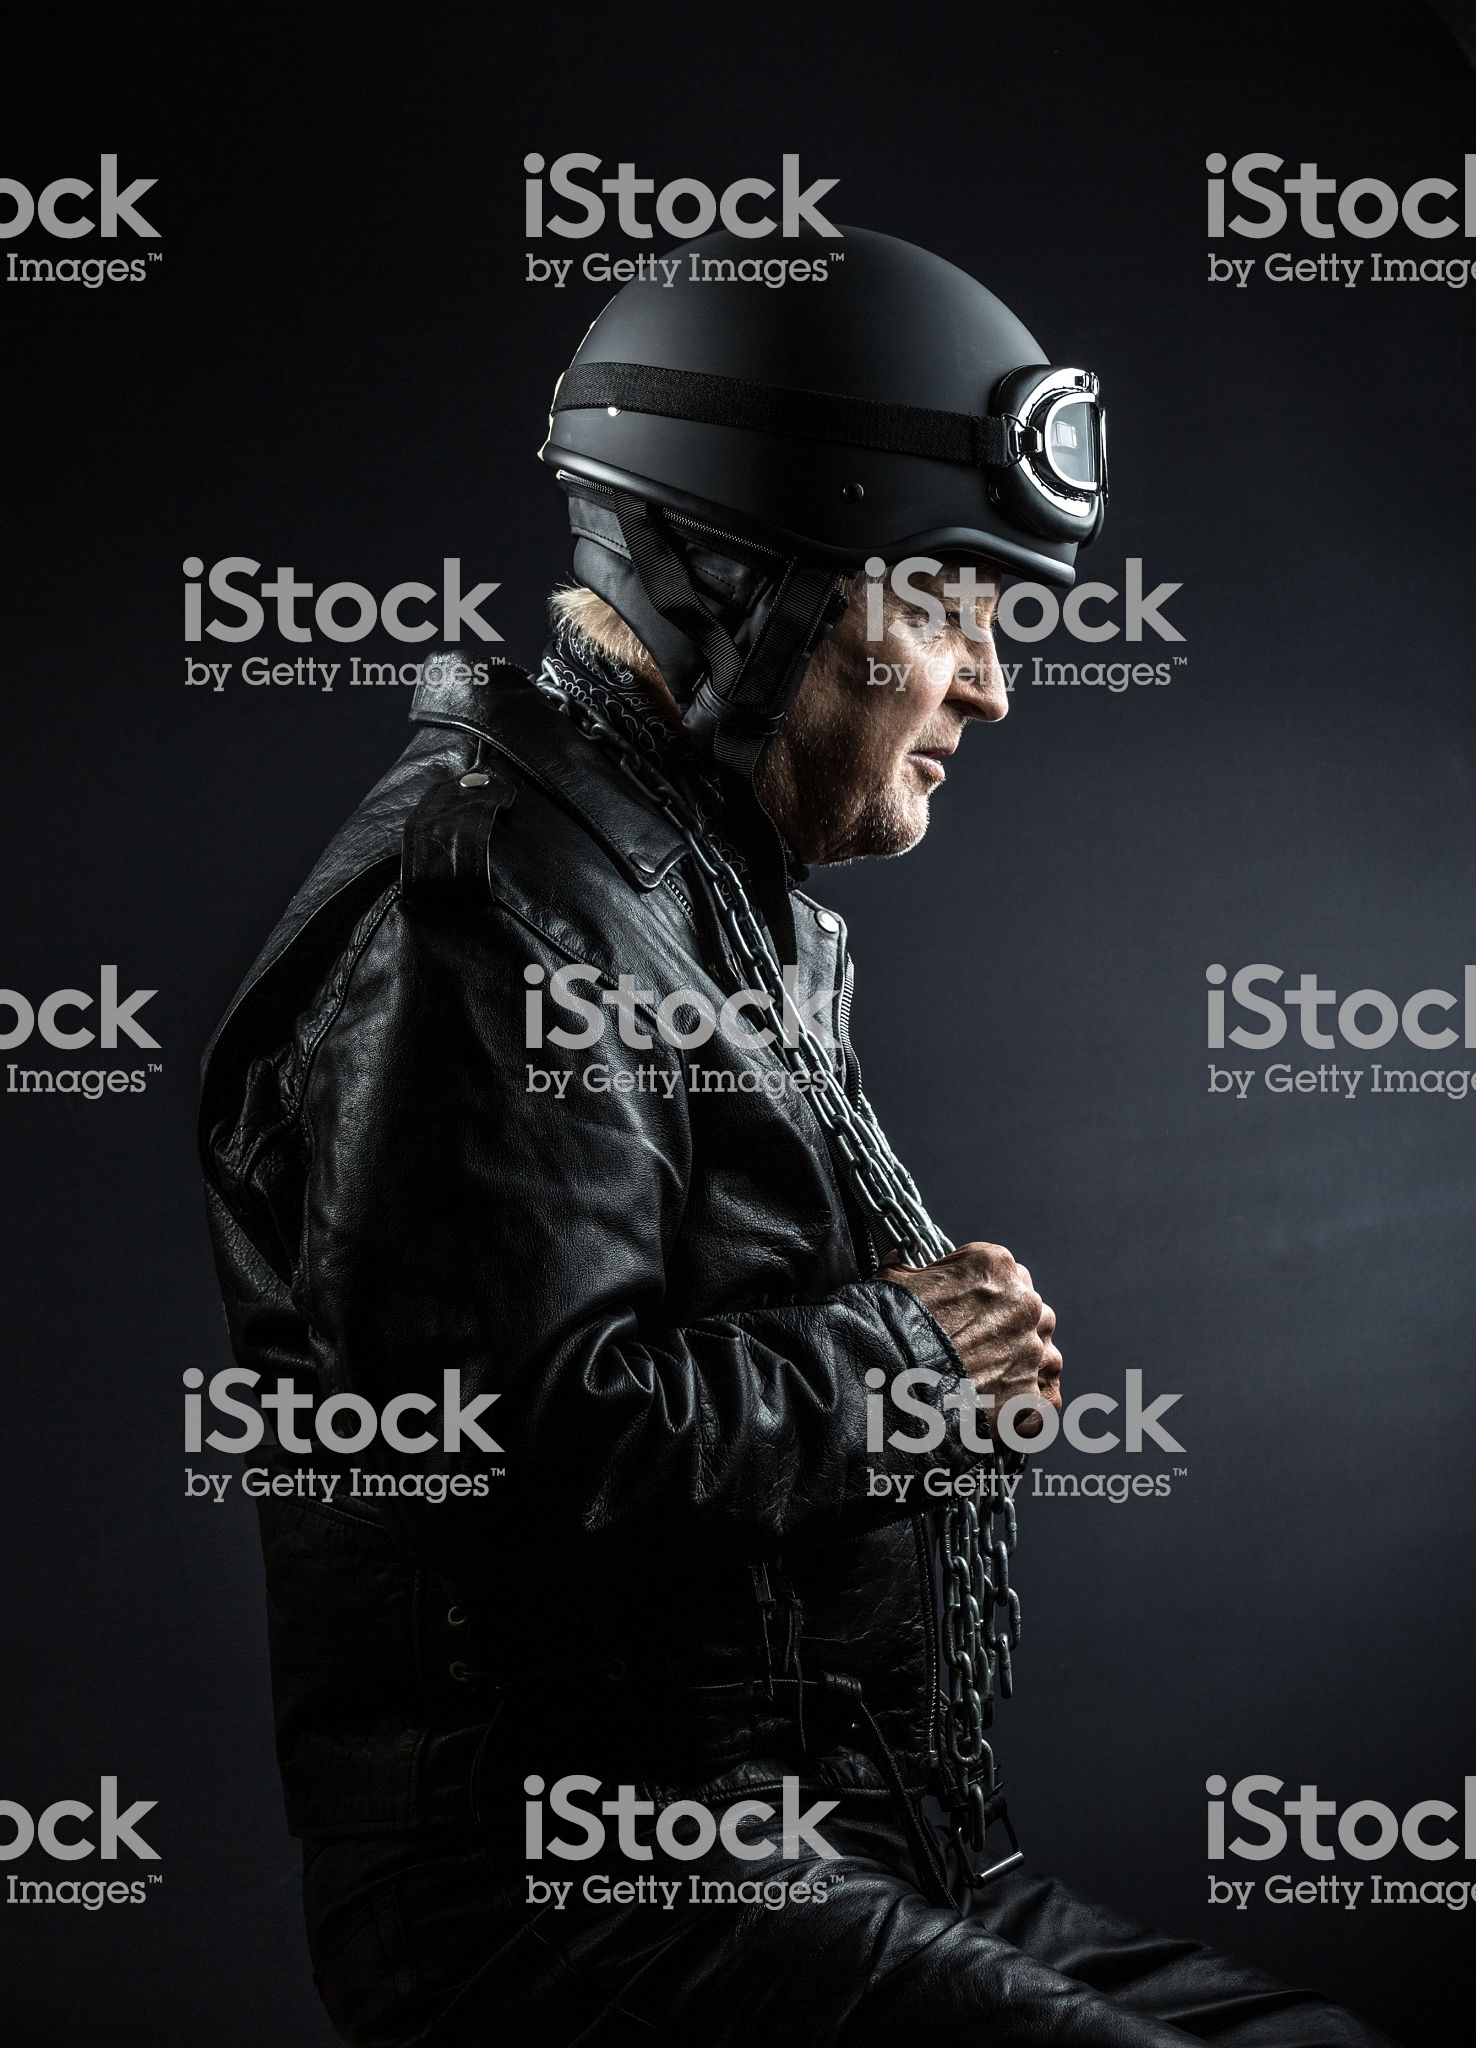helmet: (531, 210, 1159, 595)
